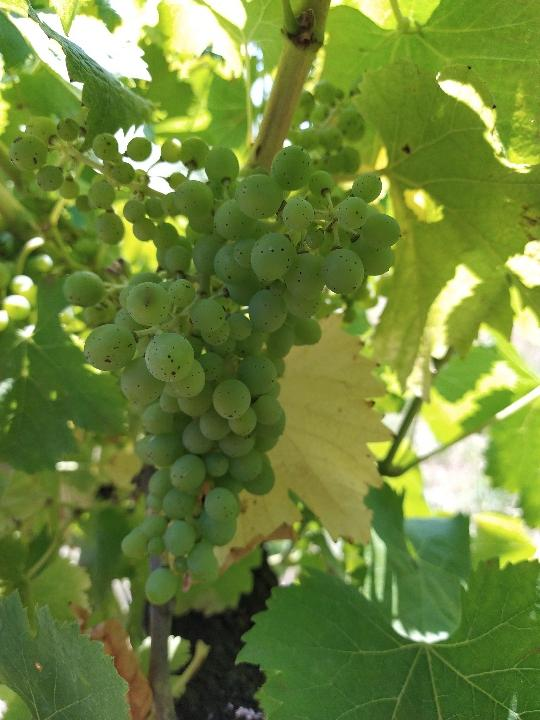grape: (8, 112, 403, 610)
